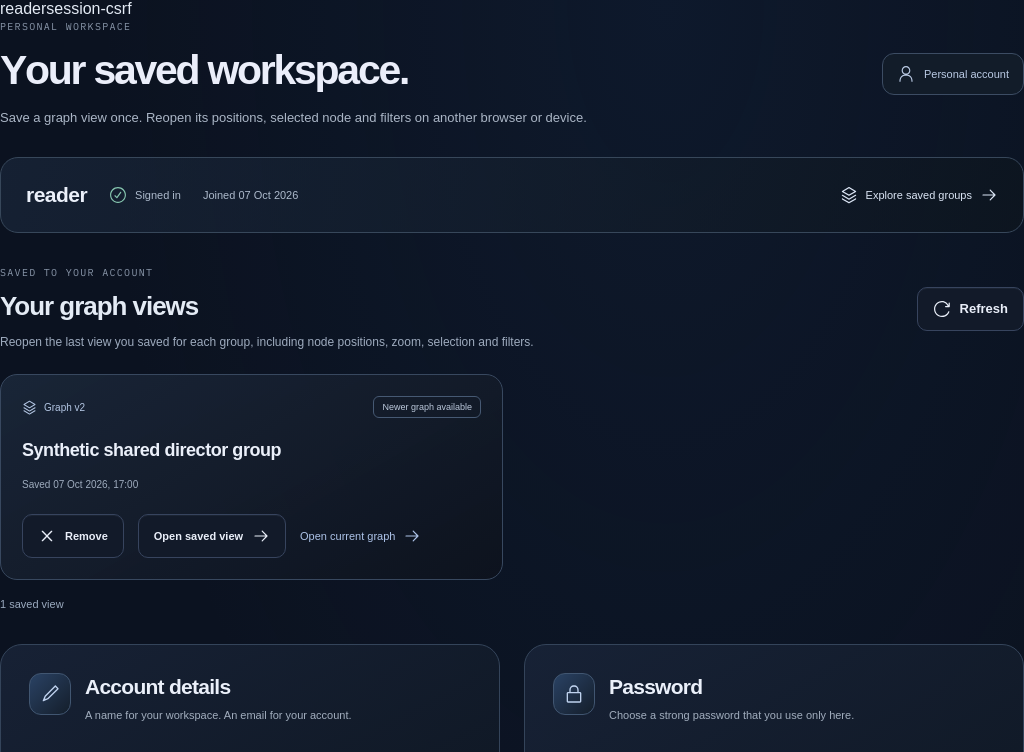
Test: saved account graph views › removes a saved view from the profile and refreshes the list
Click the button with aria-label "Remove saved view for Synthetic shared director group": x=73, y=536 [22, 514, 124, 558]
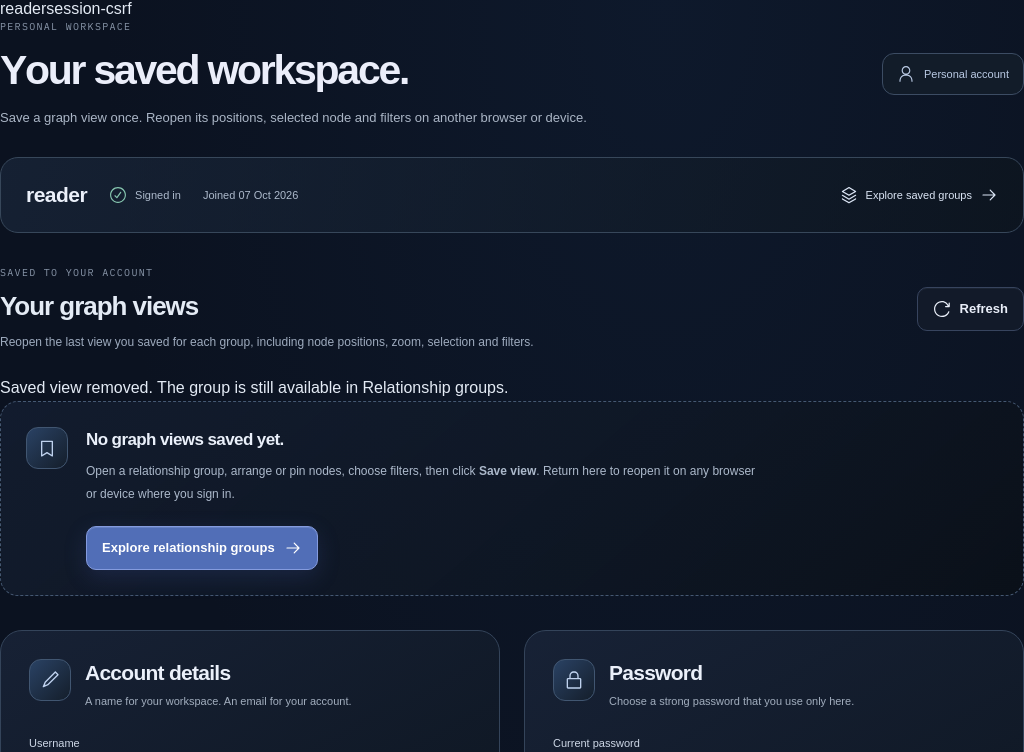
Result: the heading "No graph views saved yet." is shown at [86, 430, 284, 449]
Result: the message shows "Saved view removed" at [0, 379, 508, 396]
